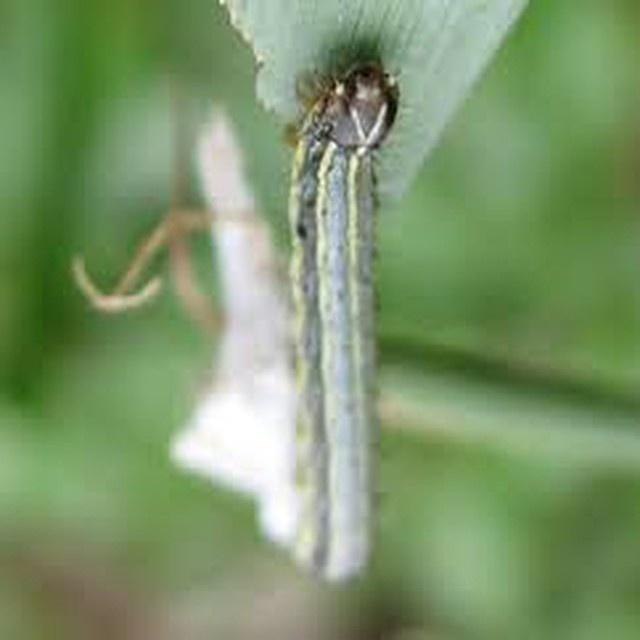gusano_cogollero: (293, 47, 391, 578)
